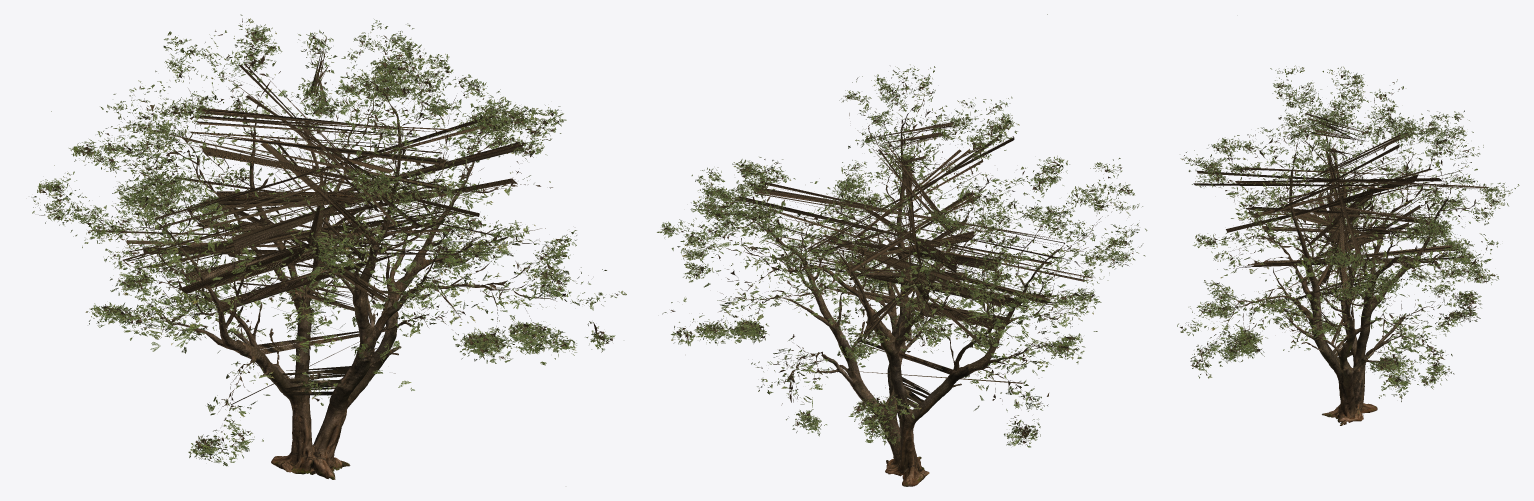
File: jacaranda_tree_1k.glb
The picture shows the model from 3 angles, left to right: view 1: azimuth 30°, elevation 25°; view 2: azimuth 150°, elevation 25°; view 3: azimuth 270°, elevation 25°; orthographic projection. The views are drawn at different scales.
Parts seen in each view (by area): view 1: jacaranda_tree_LOD0; view 2: jacaranda_tree_LOD0; view 3: jacaranda_tree_LOD0.
Boxes of the visible parts, x1,y1,x2,y2 form: jacaranda_tree_LOD0: [31, 14, 626, 479]; jacaranda_tree_LOD0: [657, 14, 1147, 486]; jacaranda_tree_LOD0: [1177, 65, 1519, 425].
Size of the model in its own units: 24.46 by 22.75 by 18.79.
3 materials, 3 textured.
